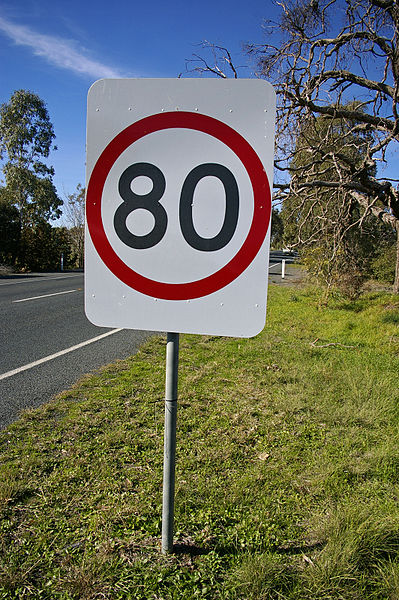Speed_limit_80km: (84, 112, 271, 302)
